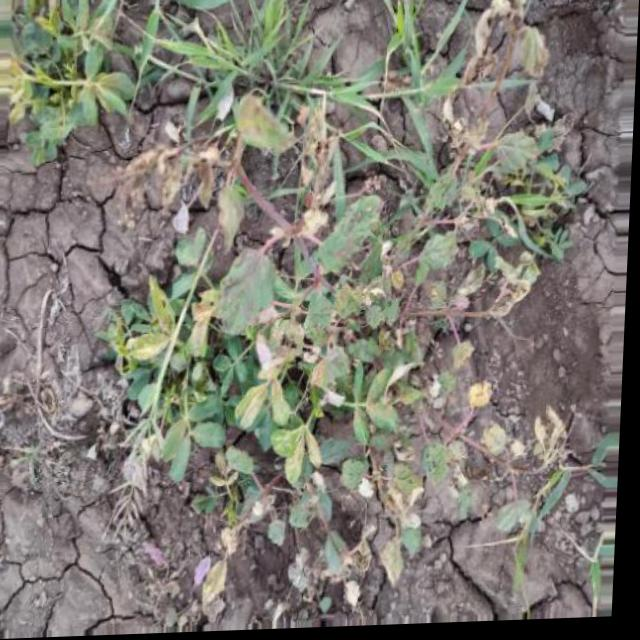weed: (54, 213, 582, 586), (0, 0, 518, 167)
